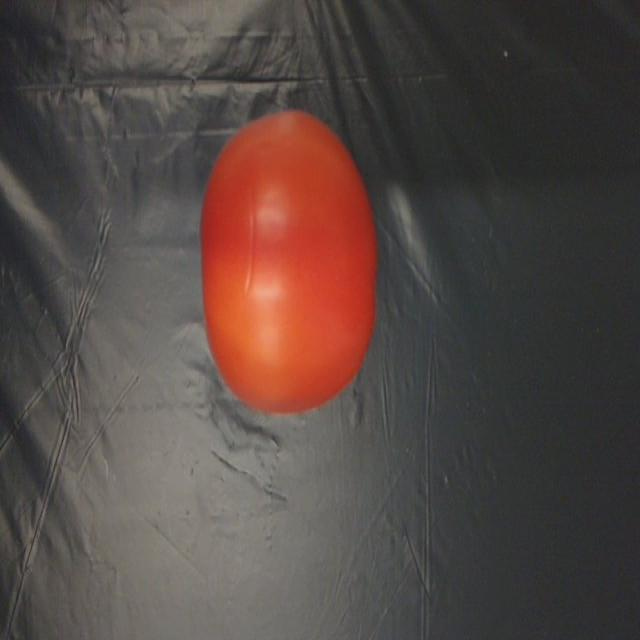sari: (189, 97, 380, 415)
